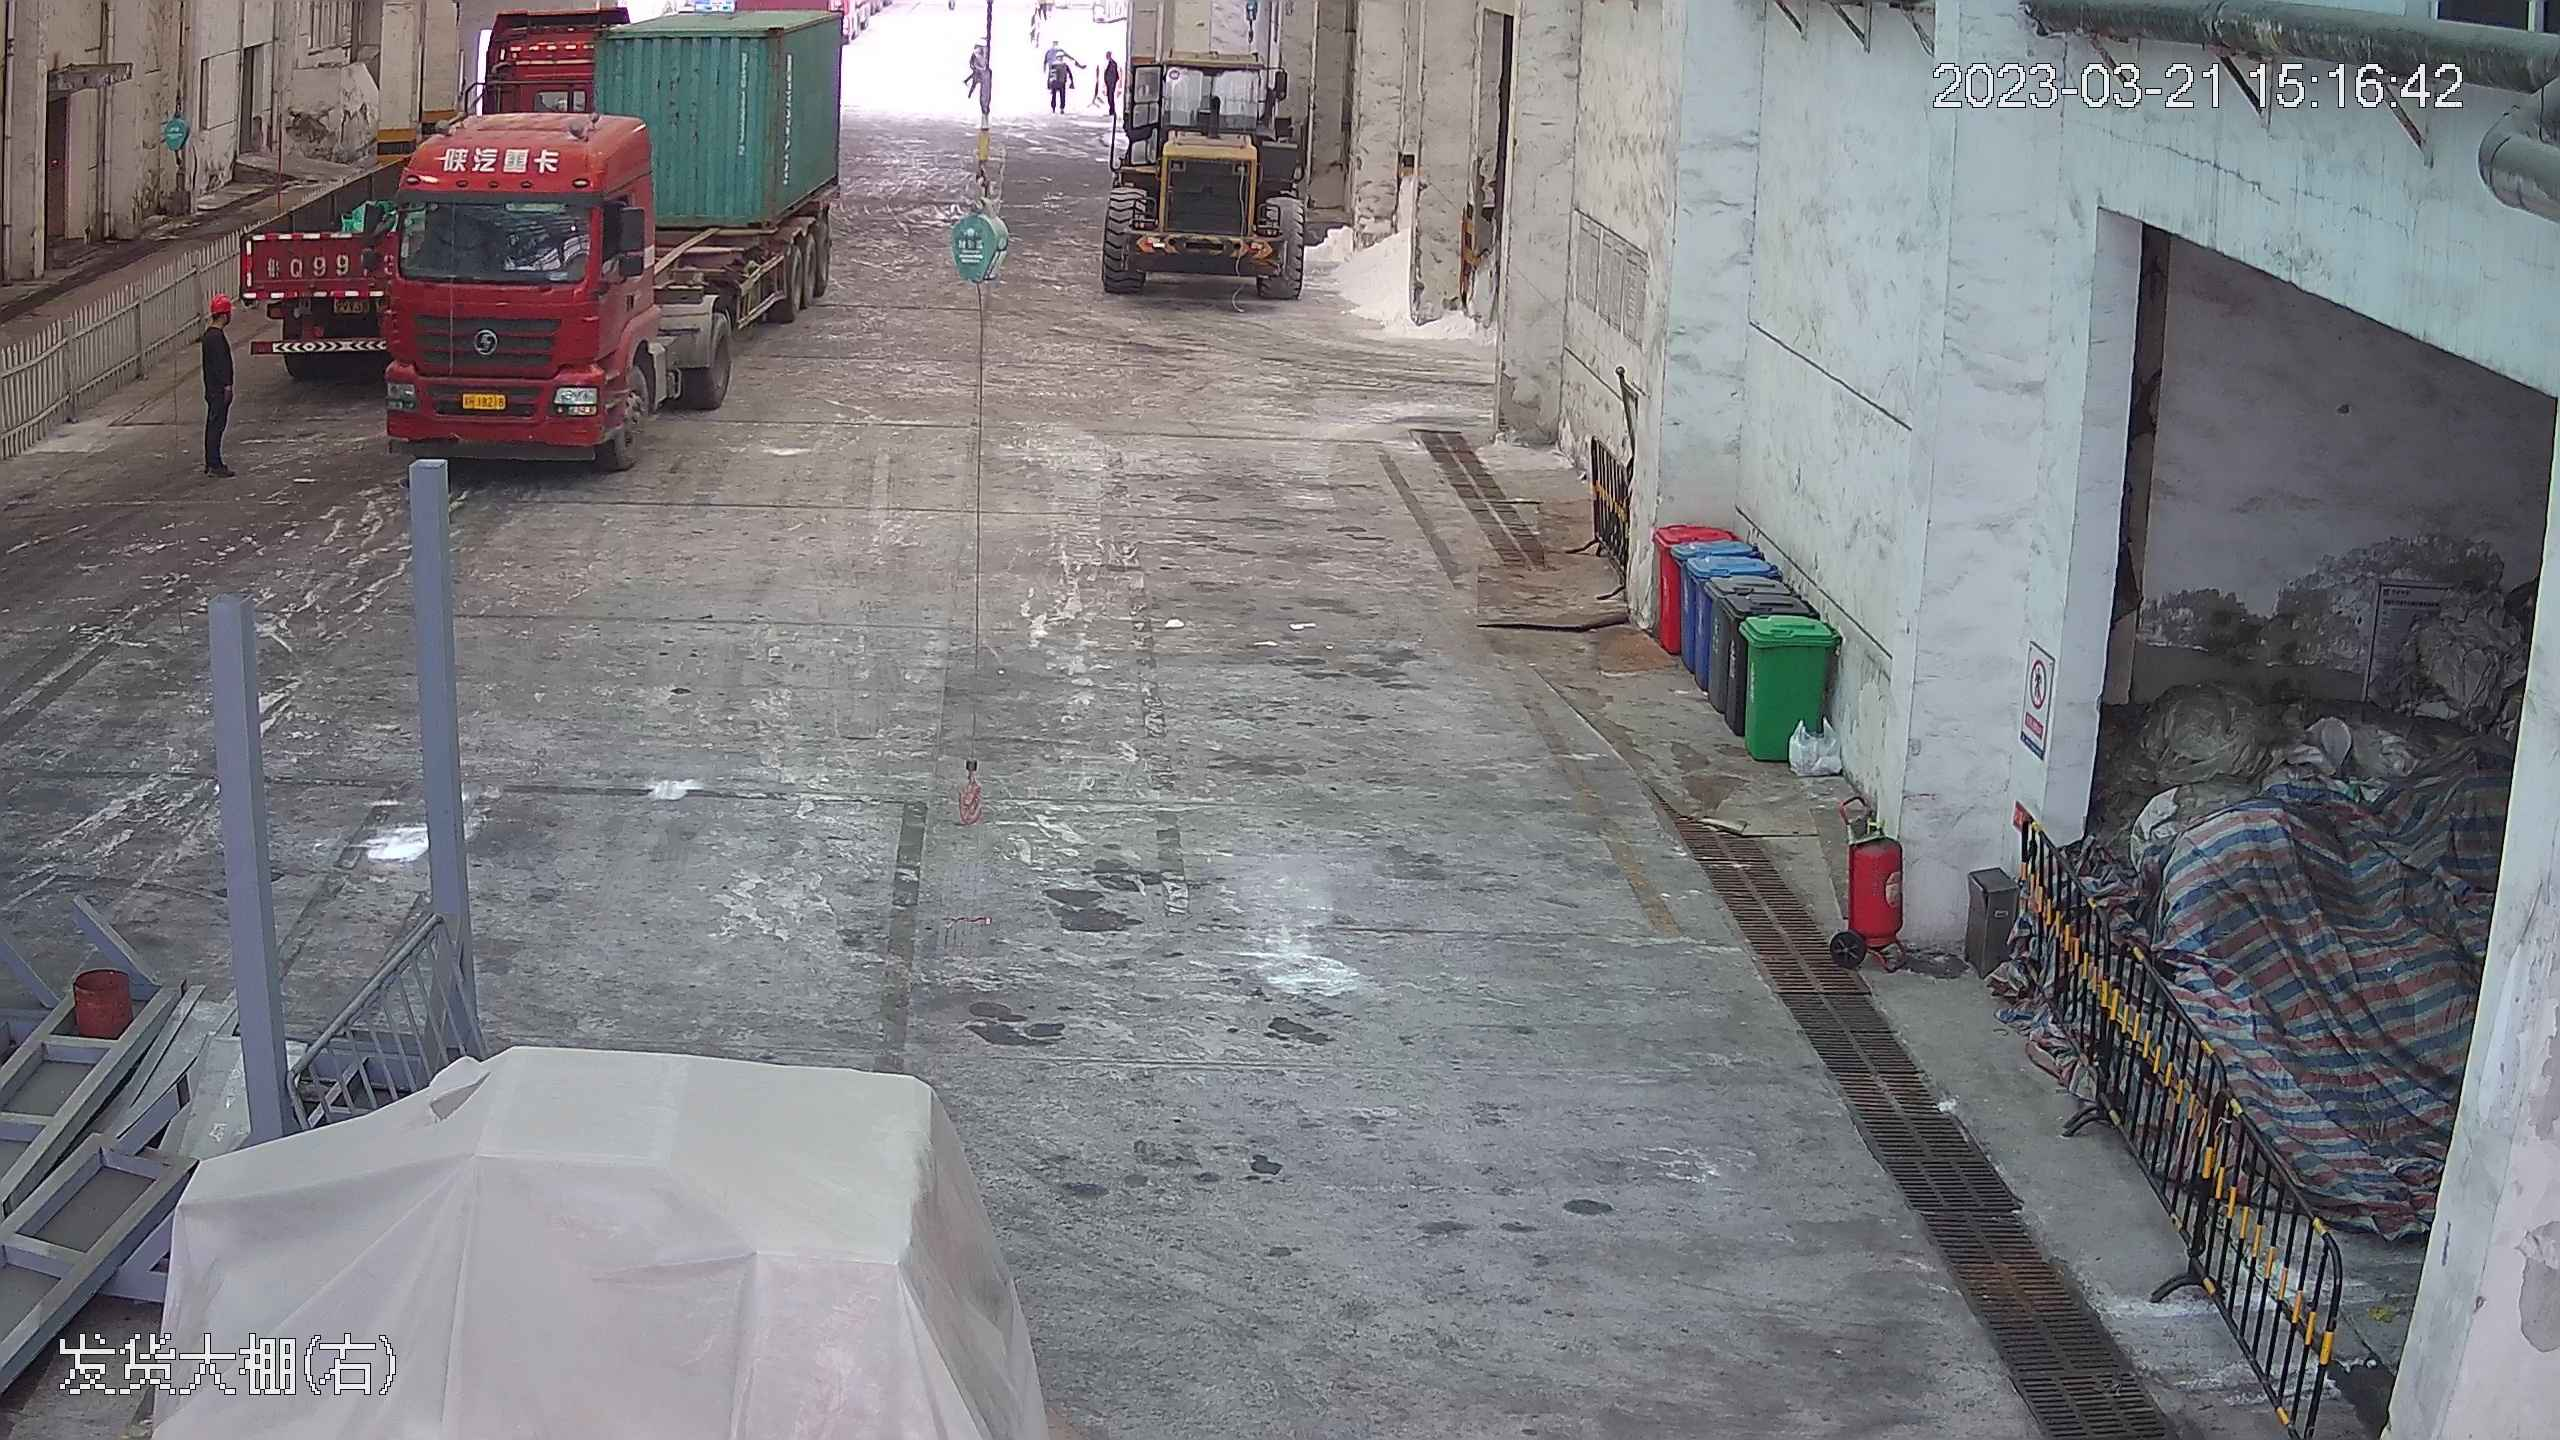head: (195, 290, 236, 352)
helmet: (203, 288, 229, 310)
people: (191, 289, 240, 474), (1041, 30, 1070, 111), (1099, 37, 1128, 117), (965, 39, 995, 116)
truck: (367, 4, 845, 468)
